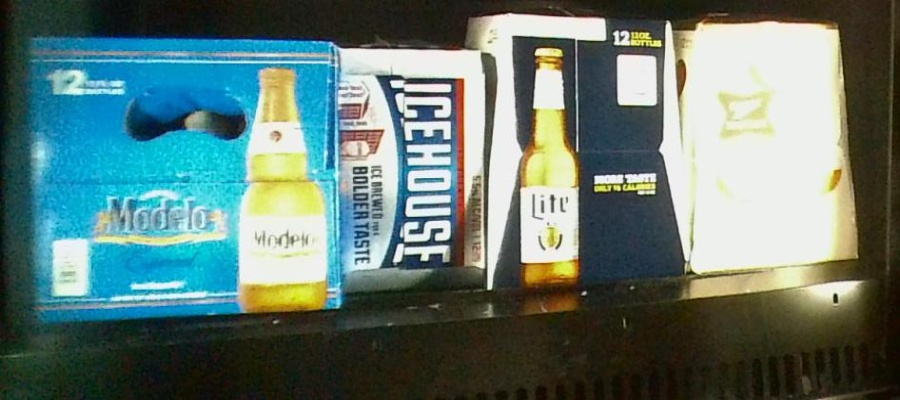bottle: (12, 36, 341, 306), (486, 11, 691, 287), (689, 13, 858, 269), (341, 44, 483, 294)
